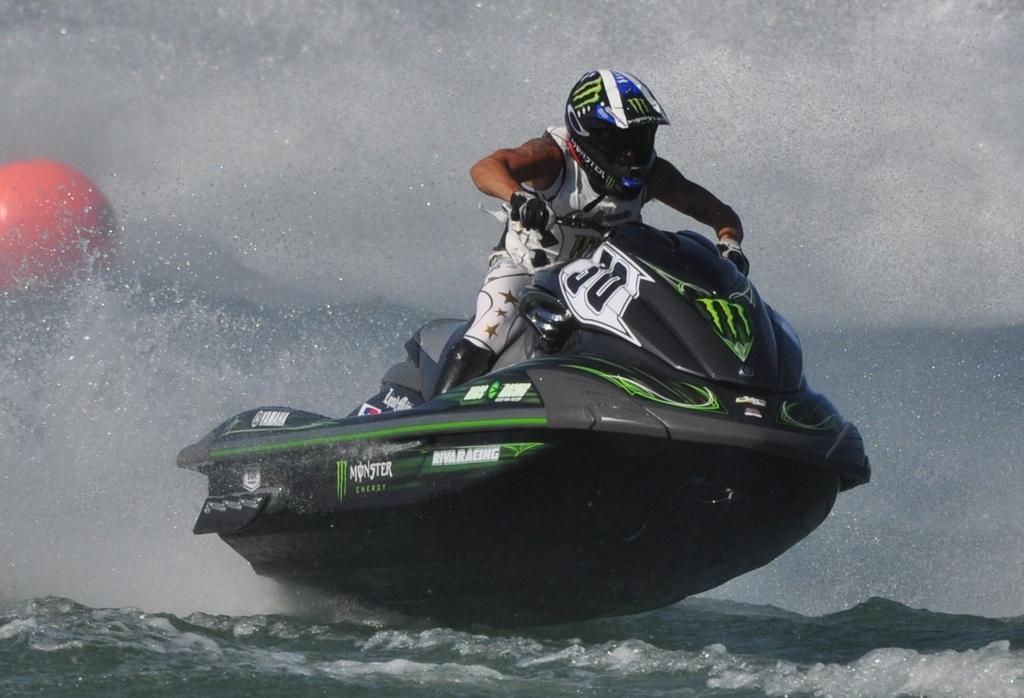helmet: (564, 69, 671, 202)
